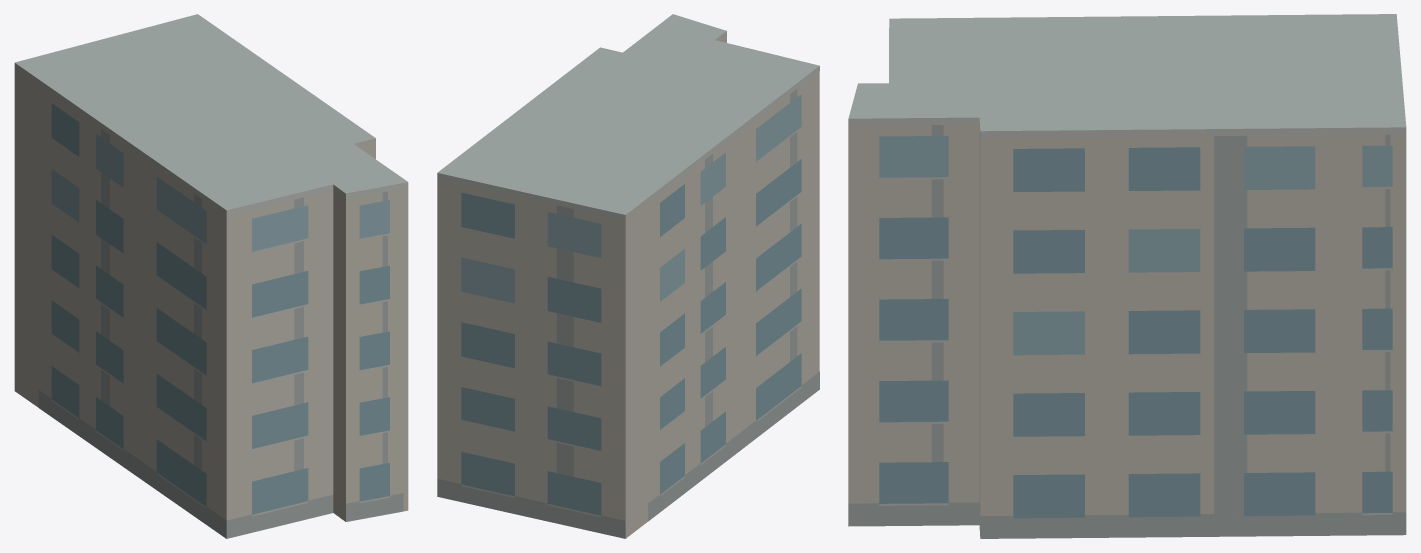
Rendered from survey-upis-32641250.glb.
The picture shows the model from 3 angles, left to right: view 1: azimuth 30°, elevation 25°; view 2: azimuth 150°, elevation 25°; view 3: azimuth 270°, elevation 25°; orthographic projection. The views are drawn at different scales.
Parts seen in each view (by area): view 1: survey-upis-32641250.tmp; view 2: survey-upis-32641250.tmp; view 3: survey-upis-32641250.tmp.
Boxes of the visible parts, box(x1,y1,x2,y2) form: survey-upis-32641250.tmp: box(14, 14, 408, 538); survey-upis-32641250.tmp: box(437, 14, 819, 538); survey-upis-32641250.tmp: box(848, 14, 1406, 538).
Bounding box in the file's own units: 8.64 × 14 × 17.37.
